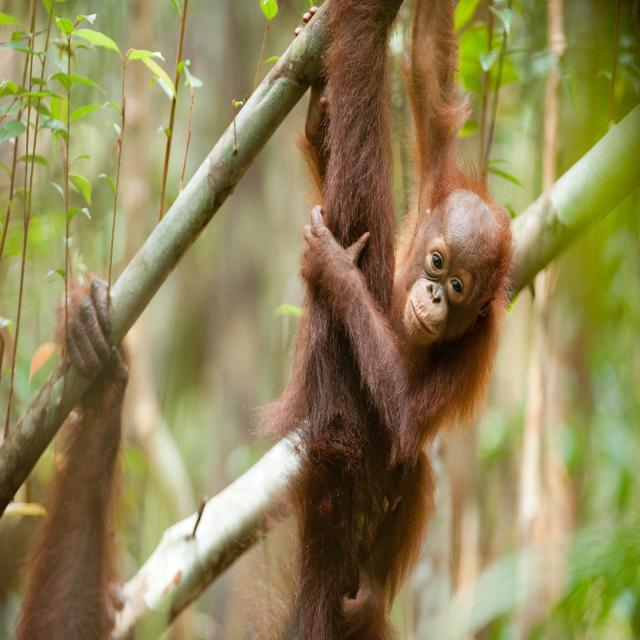Orangutan: (308, 1, 512, 626)
